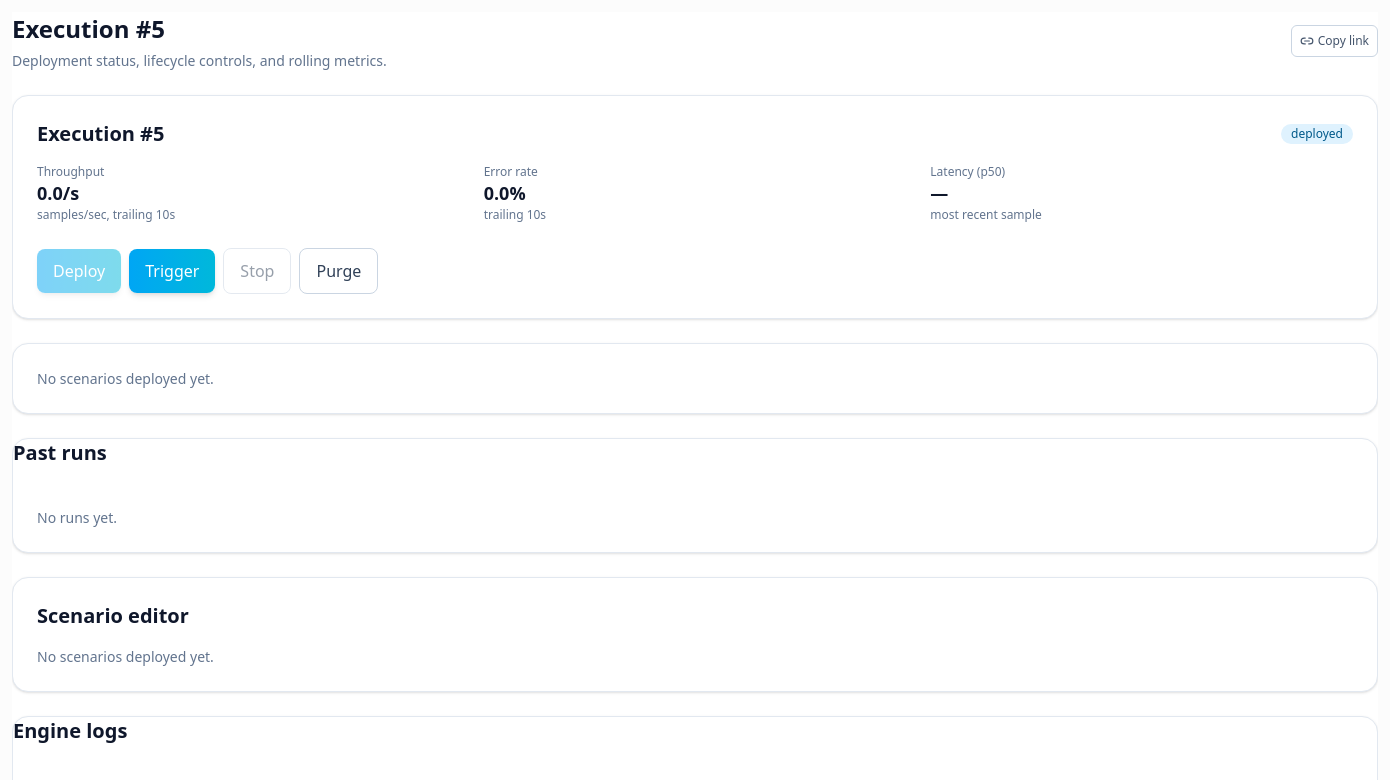
Test case: Execution action-error details (mounted) › renders the hint code line and the quota numbers under the message
This screenshot has width=1390, height=780.
Click the button "Trigger": (172, 271) [129,249,215,293]
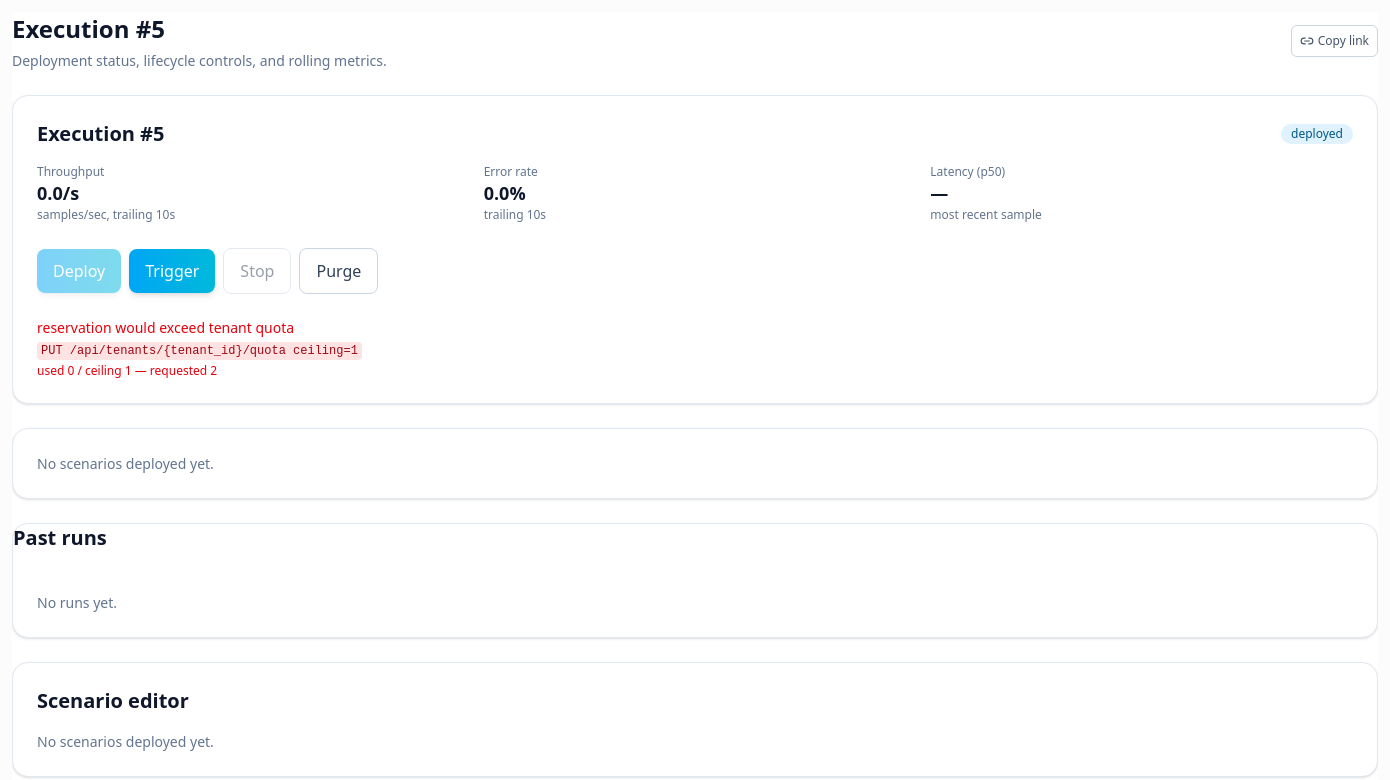
Expected: the message "reservation would exceed tenant quota" is shown, [37,318,294,337]
Expected: the text "PUT /api/tenants/{tenant_id}/quota ceiling=1" is shown, [37,342,362,360]
Expected: the element with test id "action-error-details" shows "used 0 / ceiling 1 — requested 2", [37,342,362,379]
